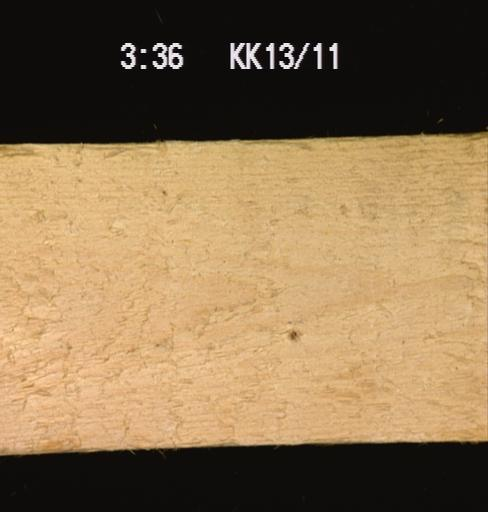small_knot: (287, 327, 298, 342)
